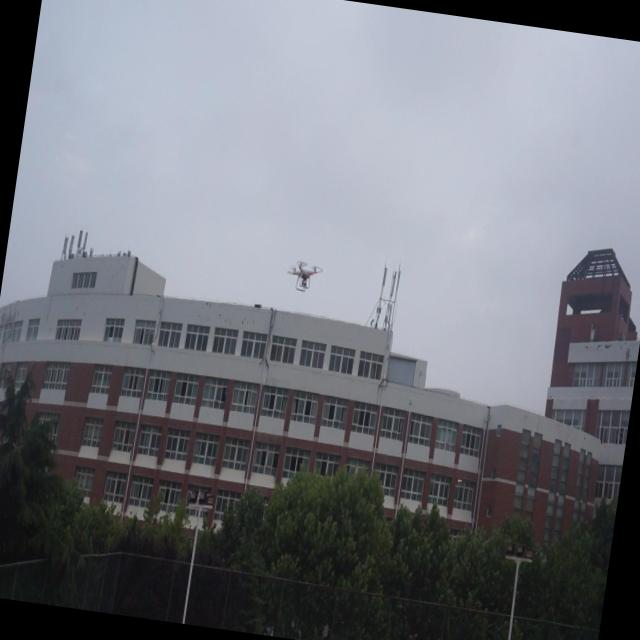drone: (278, 254, 326, 296)
